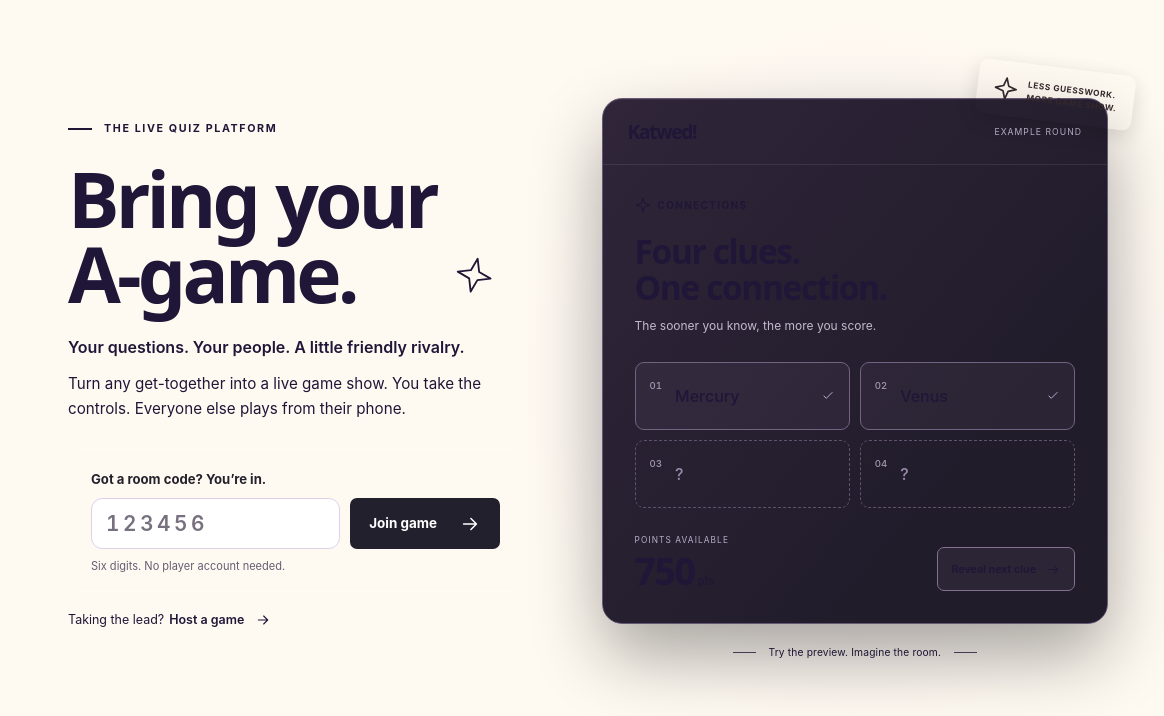
it: premium Katwed homepage › makes the example playable locally without changing the room-code draft
The width and height of the screenshot is (1164, 716).
Step 1. Type "654321" into the field labelled "room code" → (216, 524), box [91, 498, 340, 549]
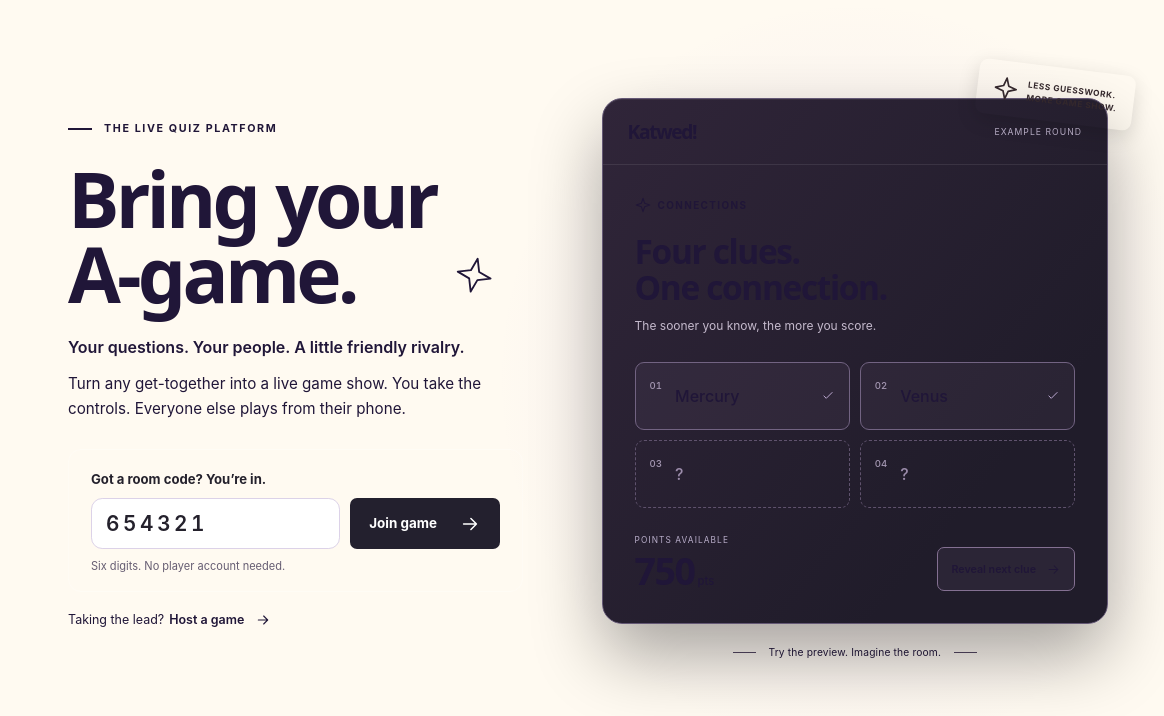
Check: the text "Earth" is not shown
Step 2. Click the button "Reveal next clue" → (1006, 569), box [937, 547, 1075, 591]
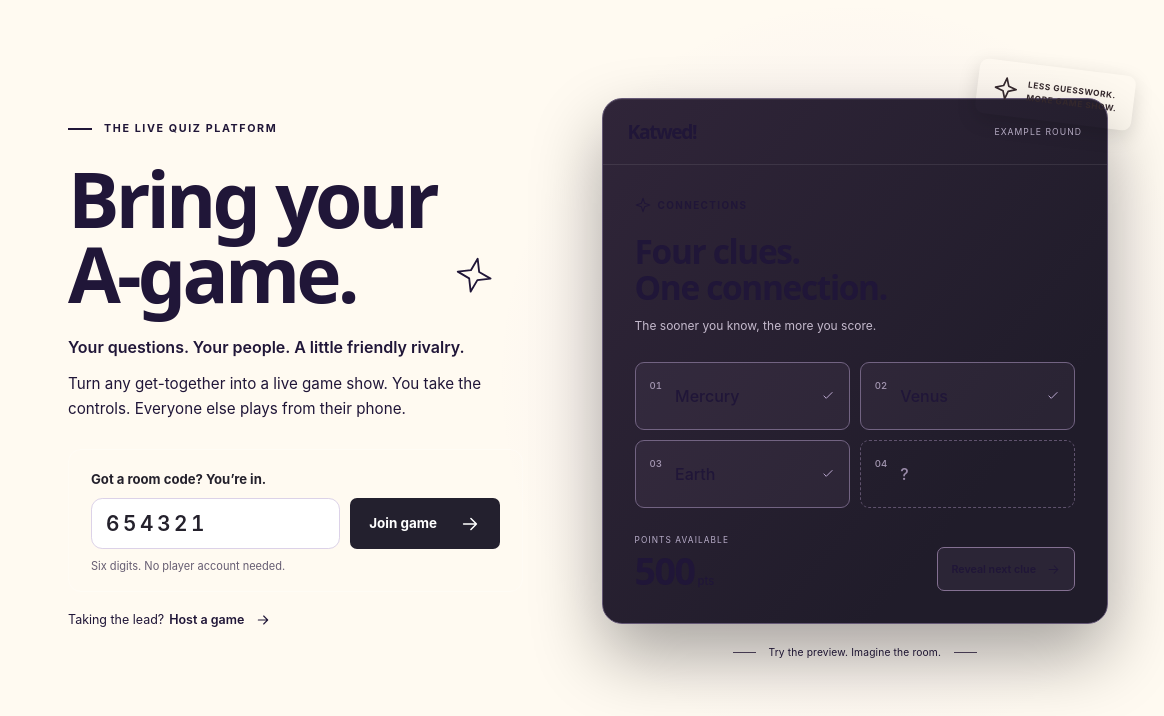
Check: the text "Mars" is not shown
Step 3. Click the button "Reveal next clue" → (1006, 569), box [937, 547, 1075, 591]
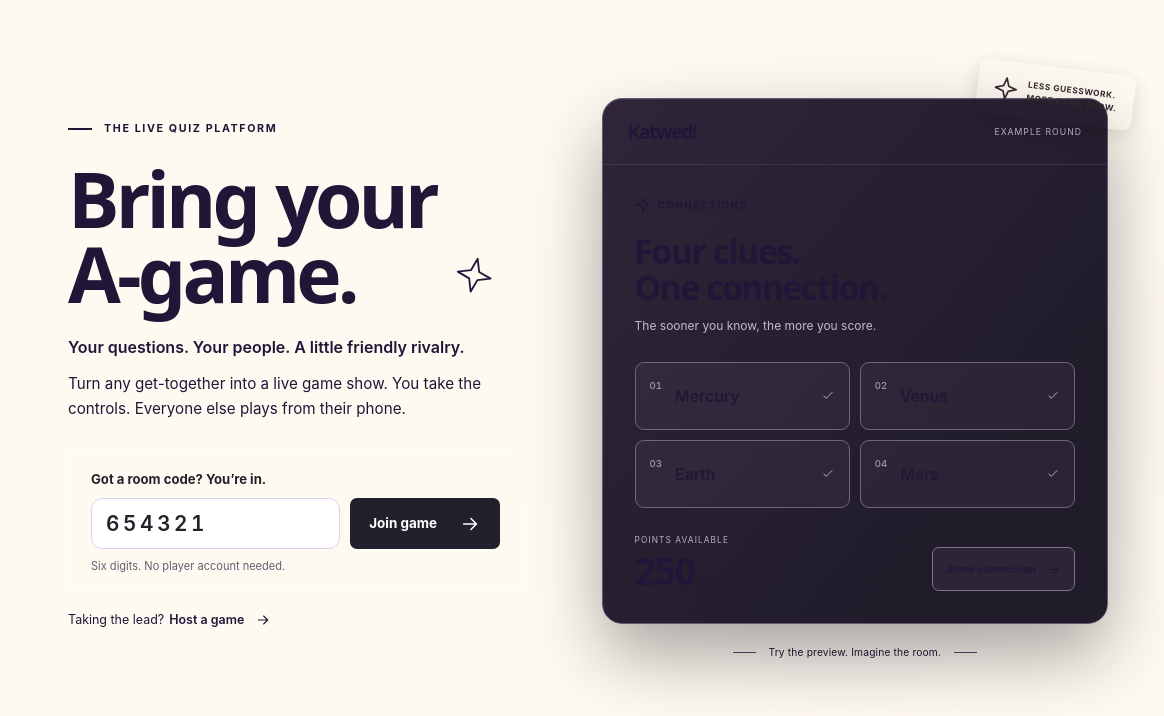
Step 4. Click the button "Show connection" → (1004, 569), box [932, 547, 1075, 591]
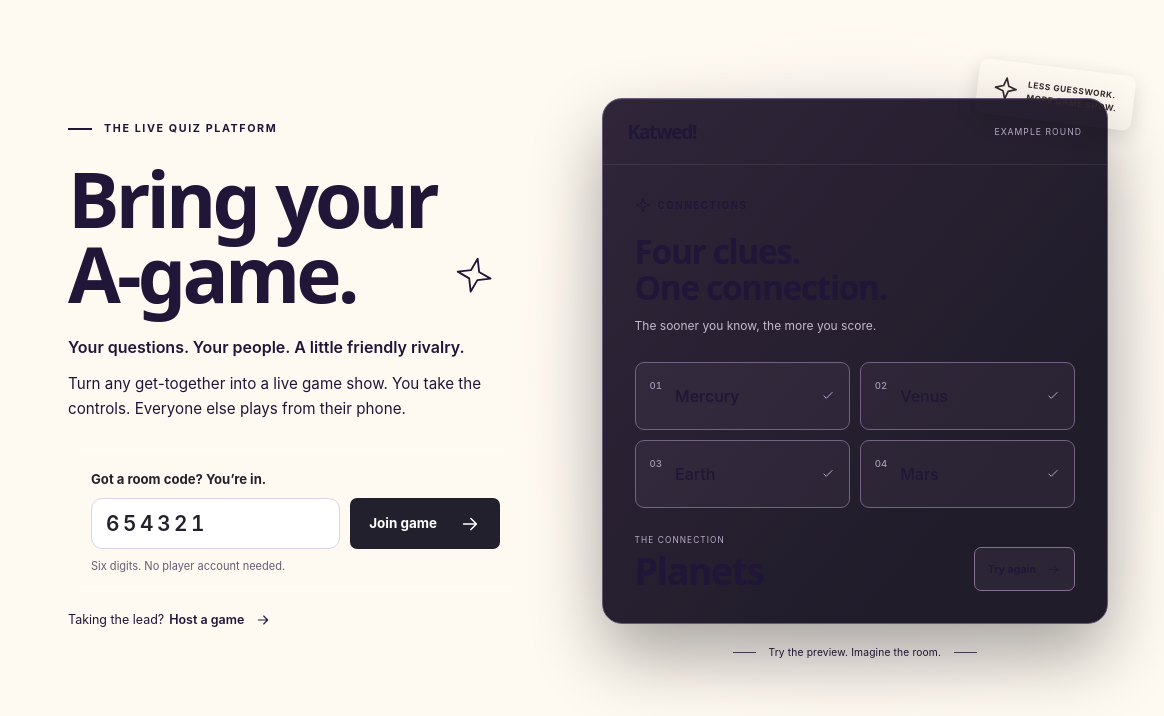
Step 5. Click the button "Try again" → (1024, 569), box [974, 547, 1075, 591]
(page scrolled)
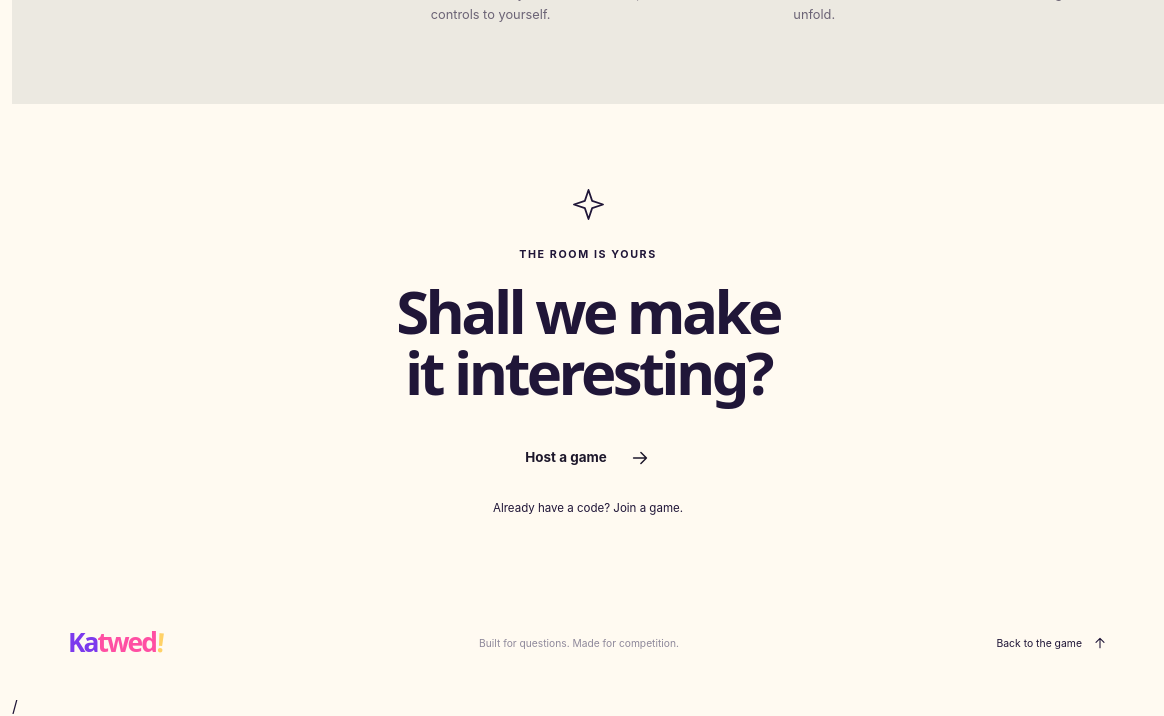
Check: the text with test id "location" reads "/", box [12, 696, 18, 715]
Check: the text "Earth" is gone
